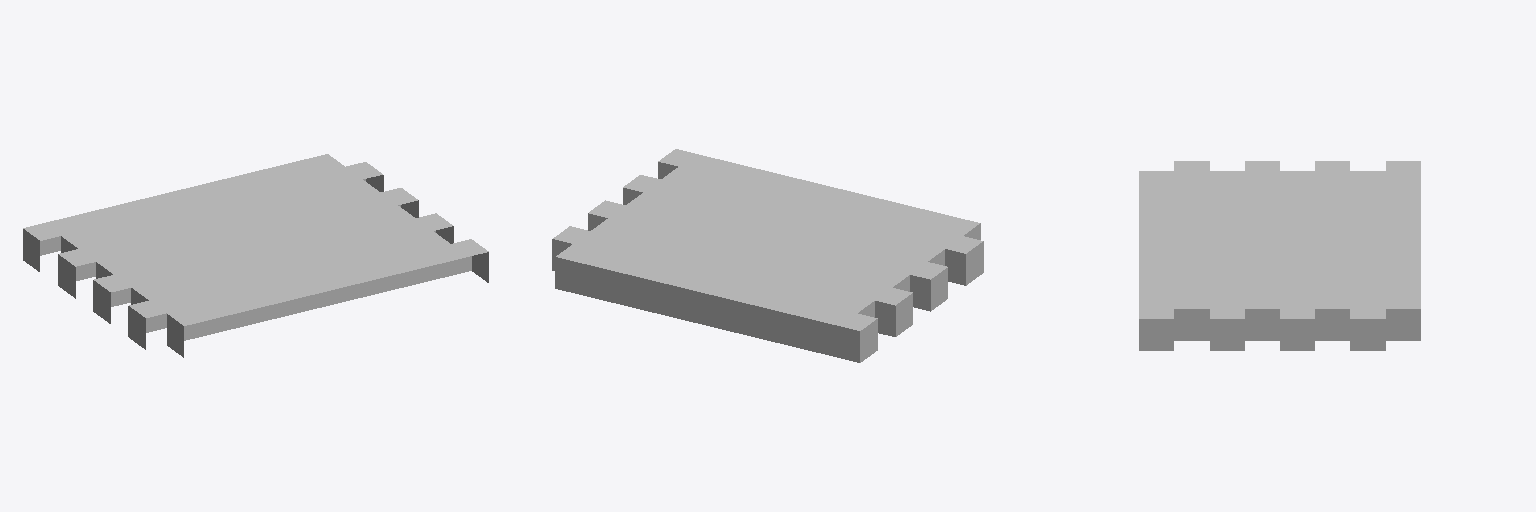
Rendered from Ground.obj.
3 views of the same model, side by side, from view 1: azimuth 30°, elevation 25°; view 2: azimuth 150°, elevation 25°; view 3: azimuth 270°, elevation 25° (orthographic).
Parts seen in each view (by area): view 1: Thick_Middle.011; view 2: Thick_Middle.011; view 3: Thick_Middle.011.
Boxes of the visible parts, <box> form: Thick_Middle.011: <box>23,154,488,357</box>; Thick_Middle.011: <box>552,149,983,362</box>; Thick_Middle.011: <box>1139,161,1420,350</box>.
Size of the model in its own units: 1.6 by 0.15 by 1.2.